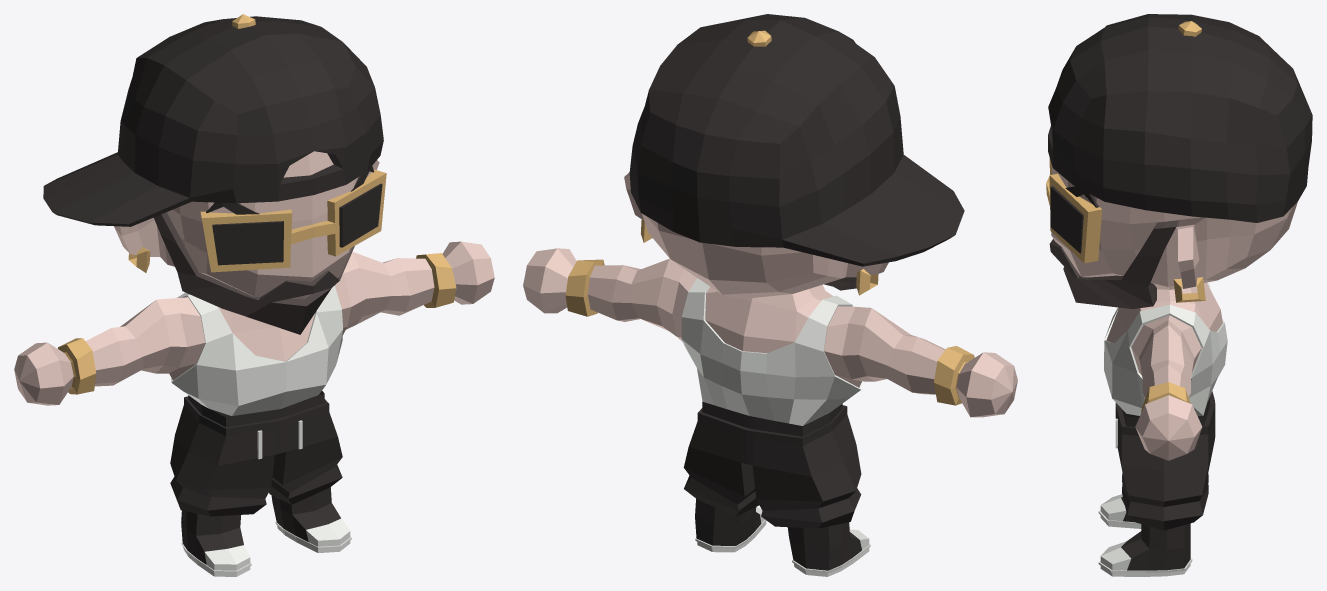
The model's file is Health.fbx.
3 views of the same model, side by side, from view 1: azimuth 30°, elevation 25°; view 2: azimuth 150°, elevation 25°; view 3: azimuth 270°, elevation 25° (orthographic). The views are drawn at different scales.
Parts seen in each view (by area): view 1: Box001; view 2: Box001; view 3: Box001.
Boxes of the visible parts, <box> form: Box001: <box>14,14,494,576</box>; Box001: <box>523,14,1017,576</box>; Box001: <box>1046,14,1312,576</box>.
Size of the model in its own units: 1.52 by 1.6 by 0.7386.
Materials: 1 (1 with a texture image).
